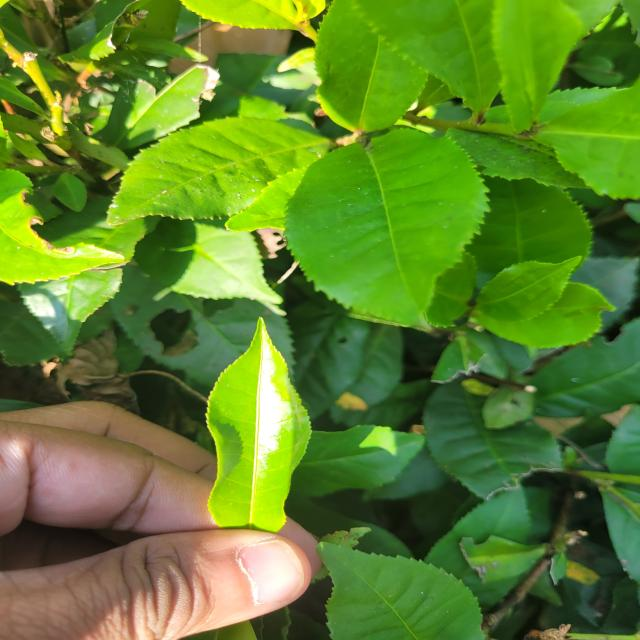Catagory A(1-2 days): (188, 308, 341, 539)
